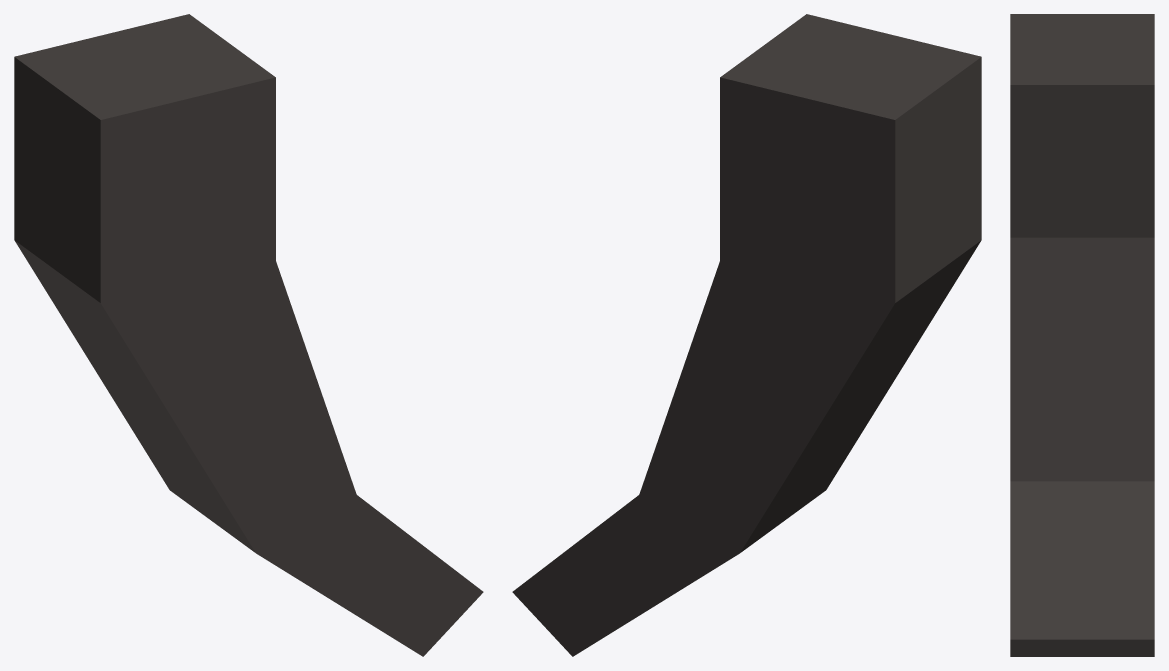
File: AssaultRifle3_03_4.fbx
The picture shows the model from 3 angles, left to right: view 1: azimuth 30°, elevation 25°; view 2: azimuth 150°, elevation 25°; view 3: azimuth 270°, elevation 25°; orthographic projection. The views are drawn at different scales.
Visible parts, largest first — view 1: AssaultRifle3_03_4; view 2: AssaultRifle3_03_4; view 3: AssaultRifle3_03_4.
Part boxes in pixels (<box>): AssaultRifle3_03_4: <box>14,14,483,656</box>; AssaultRifle3_03_4: <box>512,14,981,656</box>; AssaultRifle3_03_4: <box>1010,14,1154,656</box>.
Size of the model in its own units: 0.0247 by 0.0379 by 0.00965.
